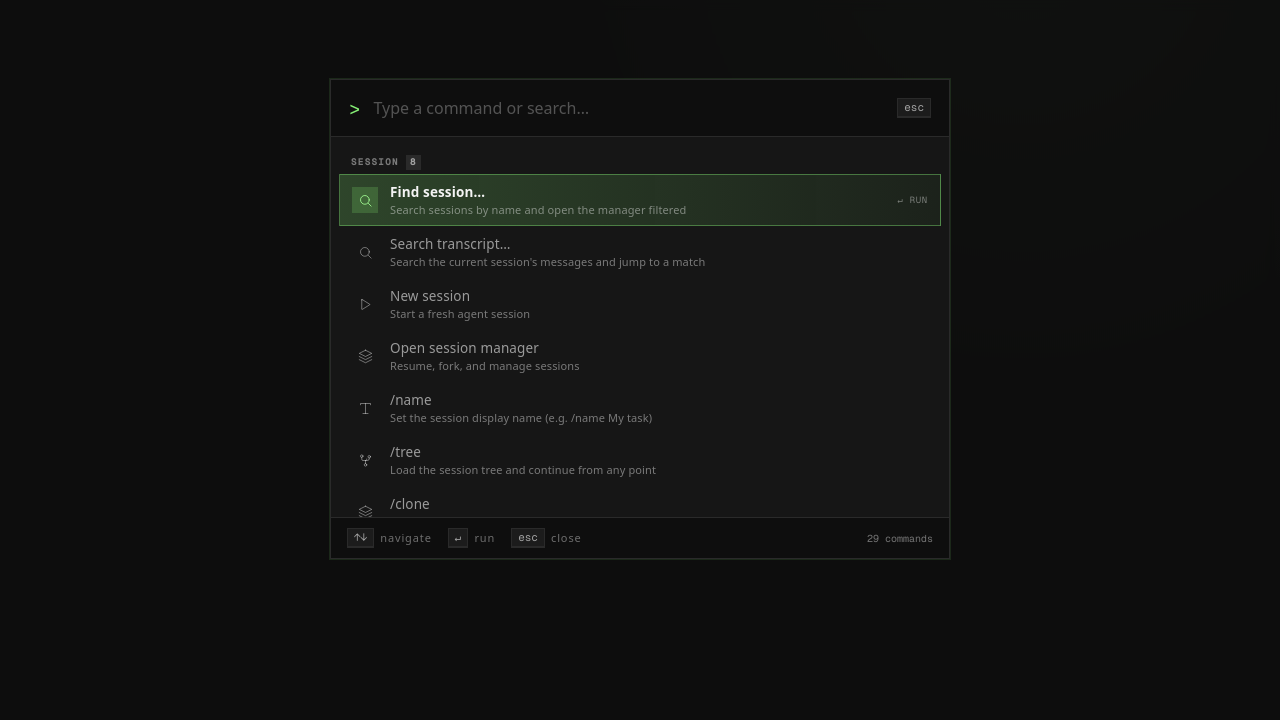
CommandPalette › shows a no-commands message for a nonsense query
In the field with placeholder "Type a command or search…": (629,108) [373,95,884,121], type "zzzzz"
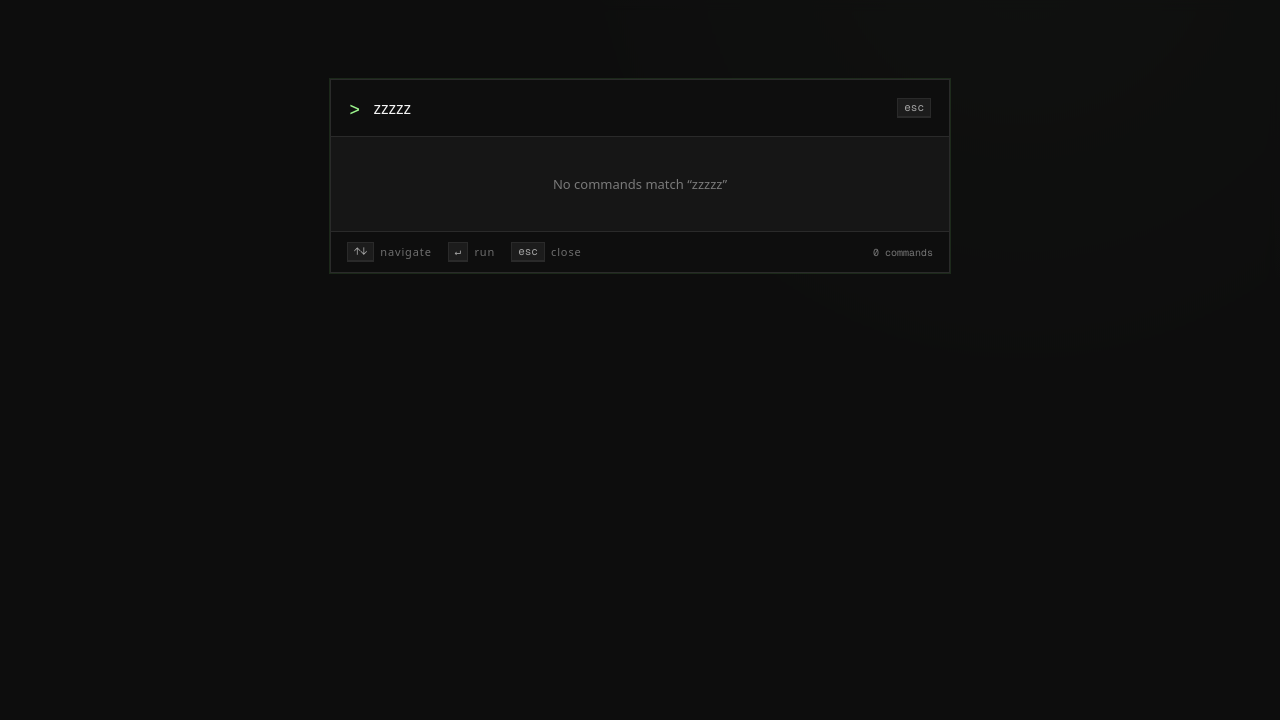
Expected: the text "No commands match “zzzzz”" is shown, [553,175,727,193]
